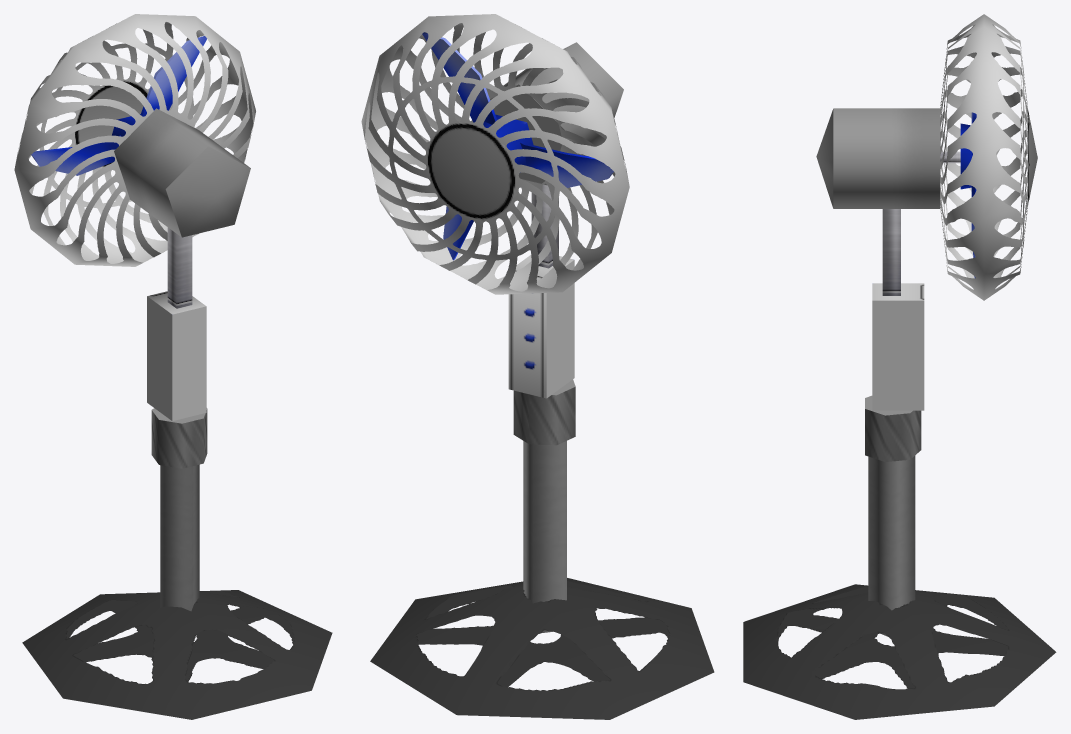
Rendered from Fan_standing.fbx.
3 renders of one model, left to right at view 1: azimuth 30°, elevation 25°; view 2: azimuth 150°, elevation 25°; view 3: azimuth 270°, elevation 25°, orthographic. The views are drawn at different scales.
Parts seen in each view (by area): view 1: Standing Fan Body, Standing Fan Head, Propeller; view 2: Standing Fan Body, Standing Fan Head, Propeller; view 3: Standing Fan Body, Standing Fan Head, Propeller.
Part boxes in pixels (<box>): Standing Fan Body: <box>22,227,332,719</box>; Standing Fan Head: <box>14,14,255,266</box>; Propeller: <box>31,36,206,175</box>; Standing Fan Body: <box>370,184,714,719</box>; Standing Fan Head: <box>361,14,629,294</box>; Propeller: <box>422,32,613,260</box>; Standing Fan Body: <box>743,209,1056,719</box>; Standing Fan Head: <box>816,14,1037,300</box>; Propeller: <box>960,112,976,278</box>.
Bounding box in the file's own units: 73.91 × 159 × 72.06.
